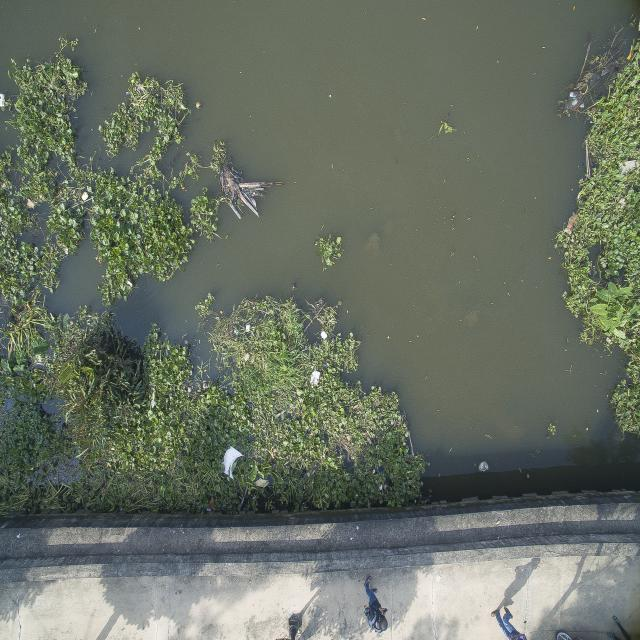plastic: (215, 439, 245, 488), (563, 83, 582, 122), (474, 454, 500, 482), (617, 154, 640, 180), (252, 471, 274, 496), (307, 369, 325, 397), (29, 351, 50, 373), (0, 81, 8, 122), (79, 192, 96, 210), (318, 323, 332, 344), (244, 321, 255, 341)
